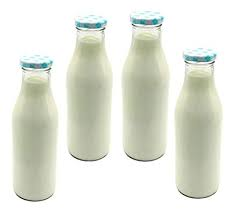milk: (176, 39, 225, 200), (120, 6, 169, 165), (9, 52, 60, 202), (66, 13, 112, 163)
